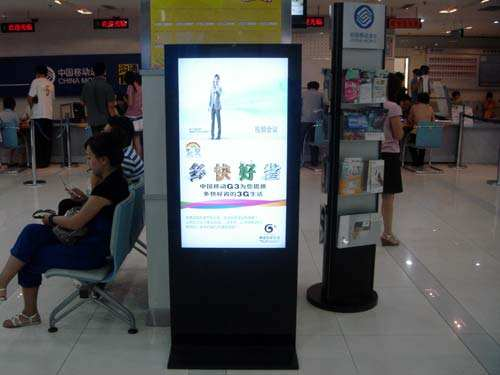bill: (179, 56, 286, 250), (143, 1, 291, 75)
